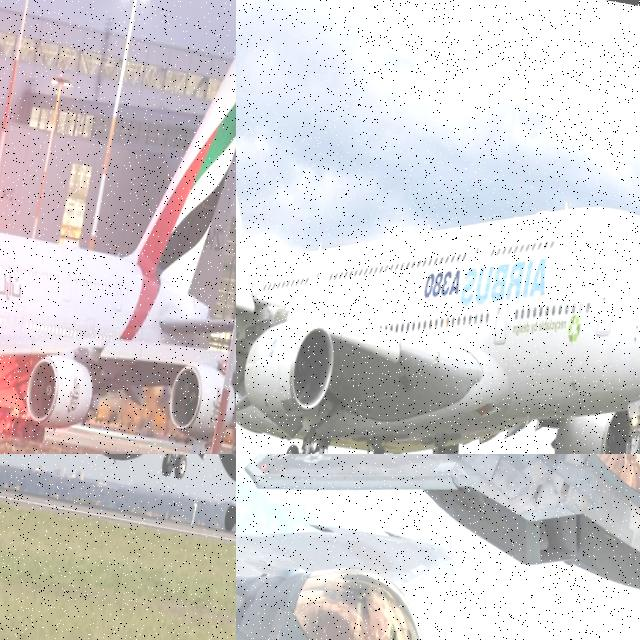A380: (236, 46, 640, 454), (0, 0, 236, 454), (0, 454, 236, 599)
F22: (236, 454, 640, 640), (240, 454, 640, 599)
